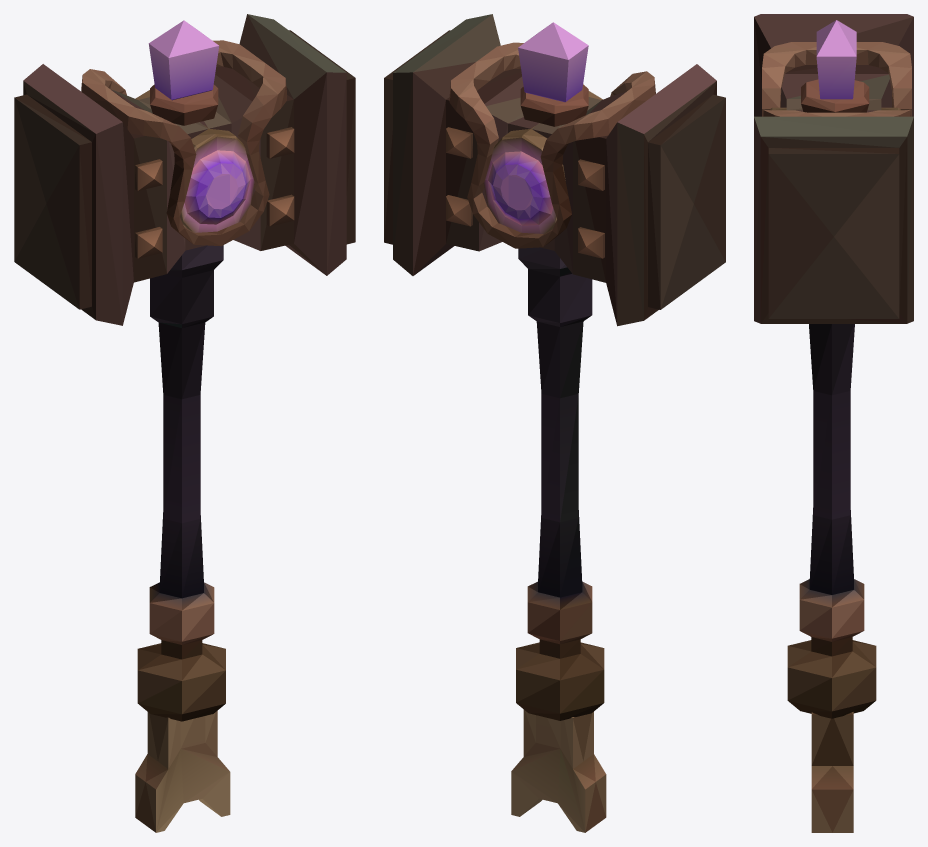
Rendered from weapon_hammer_bronze_3.fbx.
The picture shows the model from 3 angles, left to right: view 1: azimuth 30°, elevation 25°; view 2: azimuth 150°, elevation 25°; view 3: azimuth 270°, elevation 25°; orthographic projection.
Visible parts, largest first — view 1: weapon_hammer_bronze_3; view 2: weapon_hammer_bronze_3; view 3: weapon_hammer_bronze_3.
Boxes of the visible parts, x1=… form: weapon_hammer_bronze_3: x1=14, y1=14, x2=355, y2=832; weapon_hammer_bronze_3: x1=384, y1=14, x2=725, y2=832; weapon_hammer_bronze_3: x1=754, y1=14, x2=913, y2=832.
Size of the model in its own units: 1.08 by 2.95 by 0.5371.
